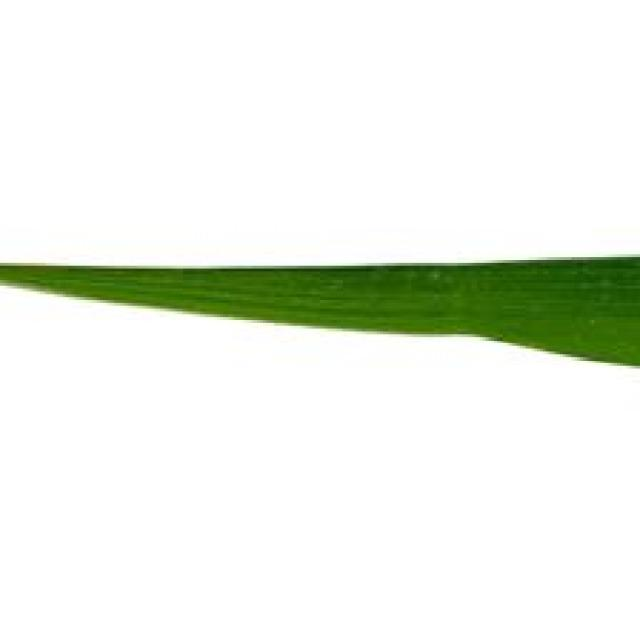Rice___Healthy_Rice_Plant: (0, 258, 637, 367)
